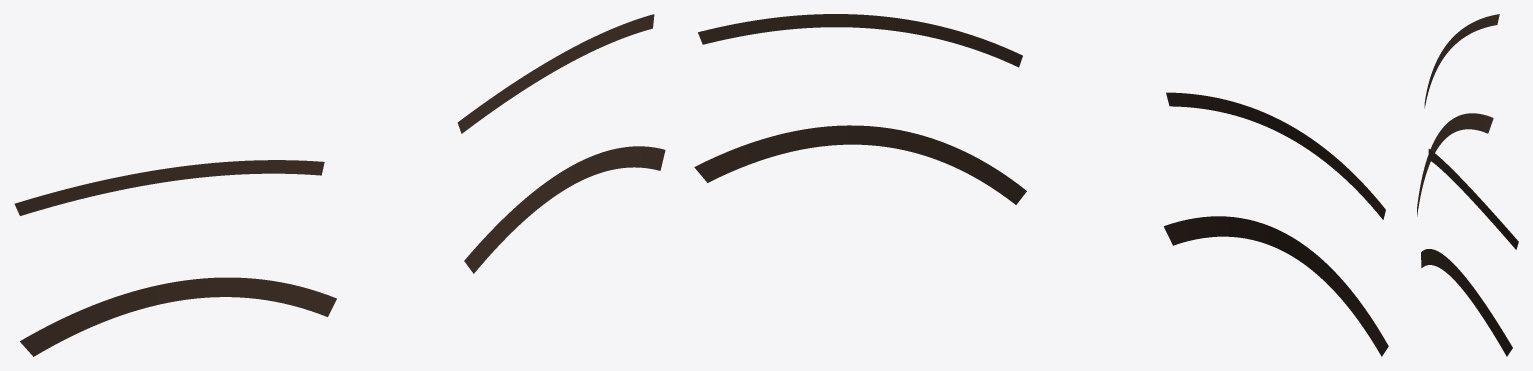
The picture shows the model from 3 angles, left to right: view 1: azimuth 30°, elevation 25°; view 2: azimuth 150°, elevation 25°; view 3: azimuth 270°, elevation 25°; orthographic projection. The views are drawn at different scales.
Parts seen in each view (by area): view 1: Eye_Closed_-1, Eyebrow_-1, Eye_Closed_1, Eyebrow_1; view 2: Eye_Closed_1, Eye_Closed_-1, Eyebrow_1, Eyebrow_-1; view 3: Eye_Closed_1, Eye_Closed_-1, Eyebrow_1, Eyebrow_-1.
Part boxes in pixels (x1=…): Eye_Closed_-1: x1=20, y1=277, x2=336, y2=356; Eyebrow_-1: x1=14, y1=160, x2=324, y2=215; Eye_Closed_1: x1=464, y1=146, x2=665, y2=273; Eyebrow_1: x1=457, y1=14, x2=654, y2=133; Eye_Closed_1: x1=694, y1=125, x2=1026, y2=204; Eye_Closed_-1: x1=1164, y1=216, x2=1388, y2=356; Eyebrow_1: x1=698, y1=14, x2=1022, y2=67; Eyebrow_-1: x1=1166, y1=92, x2=1385, y2=219; Eye_Closed_1: x1=1421, y1=249, x2=1512, y2=356; Eye_Closed_-1: x1=1417, y1=113, x2=1493, y2=216; Eyebrow_1: x1=1428, y1=149, x2=1518, y2=249; Eyebrow_-1: x1=1424, y1=14, x2=1499, y2=108.
Size of the model in its own units: 0.3982 by 0.1109 by 0.0694.
